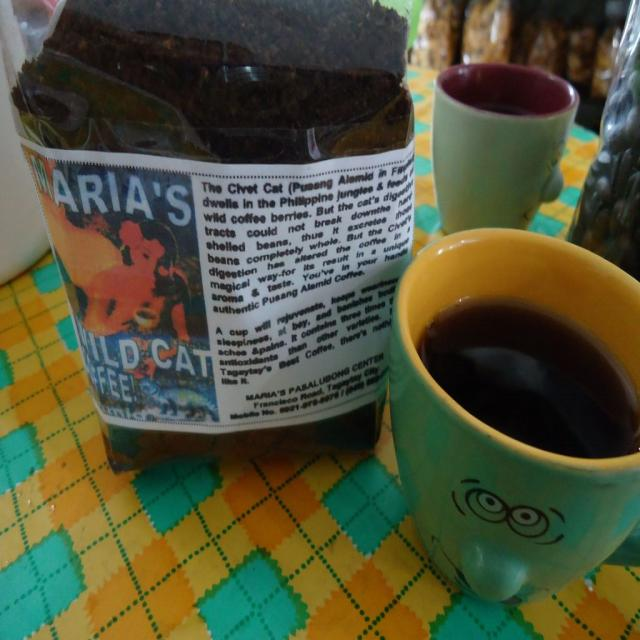Coffee: (421, 297, 640, 461)
Tea: (417, 302, 639, 463)
